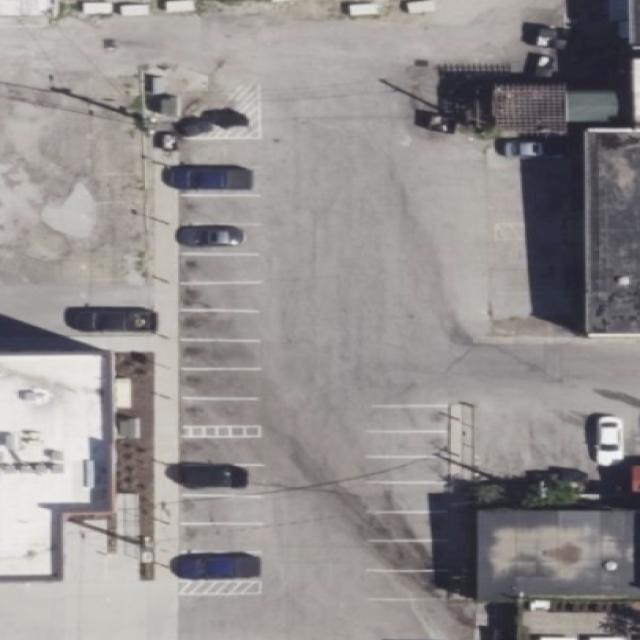Empty: (177, 194, 261, 226), (182, 369, 270, 399), (366, 541, 452, 571), (180, 398, 272, 426), (182, 437, 270, 465), (181, 496, 269, 524), (181, 524, 269, 552), (364, 483, 452, 511), (366, 512, 454, 540), (181, 311, 263, 341), (366, 571, 448, 601), (180, 253, 260, 283), (180, 340, 264, 368), (361, 405, 451, 431), (362, 431, 450, 457), (180, 138, 260, 166), (181, 282, 261, 310), (365, 458, 449, 482)
Parked: (178, 465, 266, 497), (174, 164, 260, 196), (178, 551, 264, 581), (180, 224, 260, 256), (491, 138, 572, 162)
